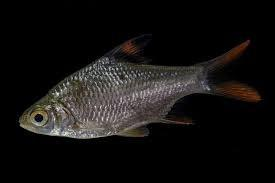Silver Barb: (17, 40, 260, 141)
